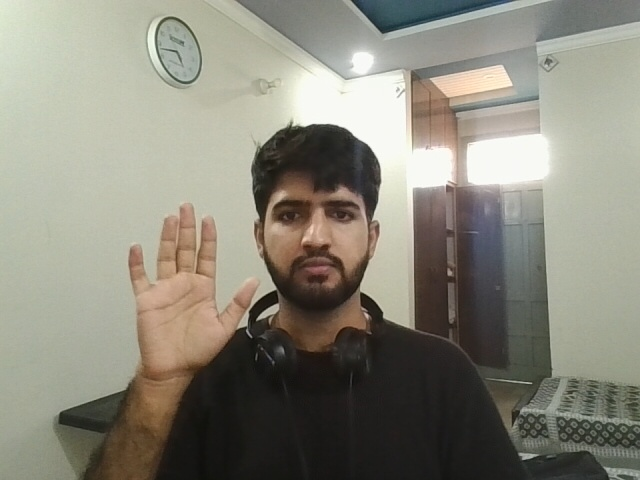Hello: (108, 196, 264, 381)
